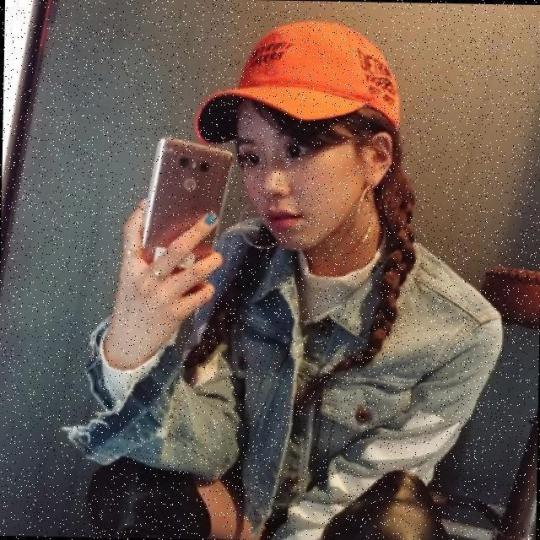phone: (135, 137, 235, 297)
